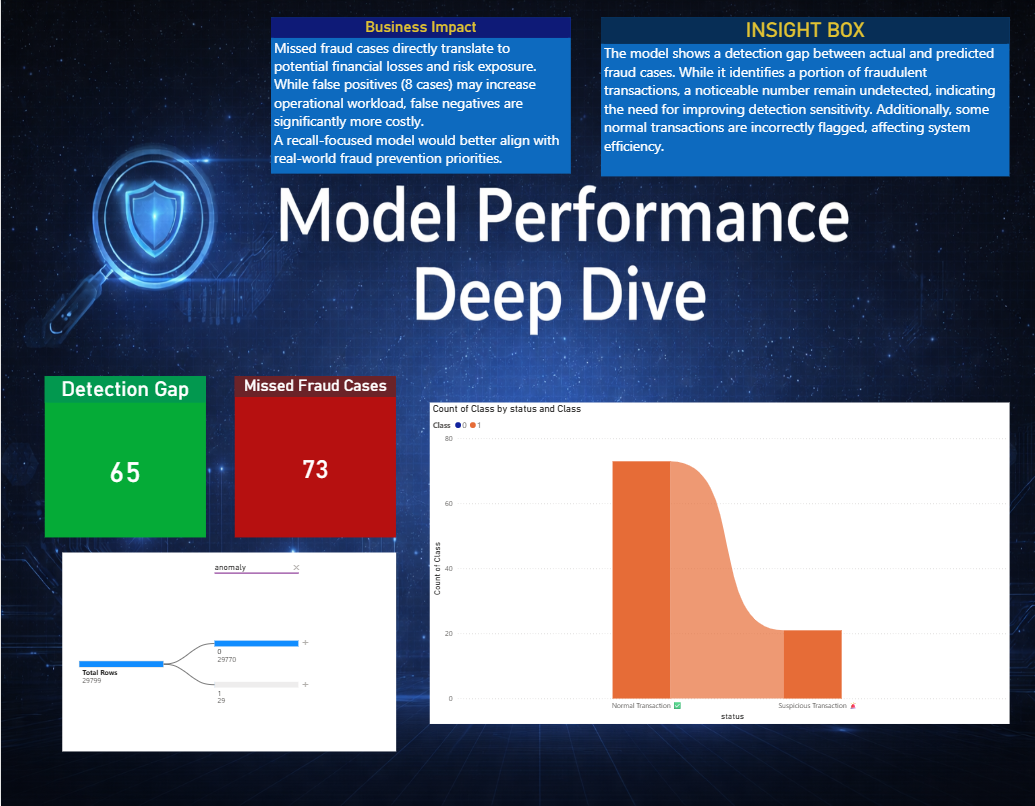

The page's visual inventory and layout, read from the dashboard file:
{"tool":"powerbi","page":{"name":"Model Performance Analysis","canvas":[1800,1400],"ordinal":1},"visuals":[{"type":"card","title":"Detection Gap","fields":{"Values":["anomaly_results_final.Fraud Gap"]},"box":[76,653.5,280.1,280.1],"z":0},{"type":"card","title":"Missed Fraud Cases","fields":{"Values":["anomaly_results_final.FN"]},"box":[406,653.5,280.1,280.1],"z":1},{"type":"textbox","title":"INSIGHT BOX","box":[1042.2,30.4,710,275.7],"z":3},{"type":"ribbonChart","fields":{"Category":["anomaly_results_final.status"],"Series":["anomaly_results_final.Class"],"Y":["anomaly_results_final.Count of Class"]},"box":[744.7,699.1,1007.4,558],"z":4},{"type":"decompositionTreeVisual","fields":{"ExplainBy":["anomaly_results_final.anomaly","anomaly_results_final.status","anomaly_results_final.Class"],"Analyze":["anomaly_results_final.Total Rows"]},"box":[106.4,959.7,579.7,345.2],"z":5},{"type":"textbox","title":"Business Impact","box":[469,30.4,521.1,271.4],"z":6}]}

Visuals, with their boxes in screenshot pixels (x1, y1, x2, y2), scaled from the page's 1800x1400 canvas onto the 1035x806 screenshot:
"Detection Gap" card: box=[44, 376, 205, 537]
"Missed Fraud Cases" card: box=[233, 376, 395, 537]
"INSIGHT BOX" textbox: box=[599, 18, 1008, 176]
ribbonChart - anomaly_results_final.status x anomaly_results_final.Class: box=[428, 402, 1007, 724]
decompositionTreeVisual - anomaly_results_final.anomaly x anomaly_results_final.status: box=[61, 553, 395, 751]
"Business Impact" textbox: box=[270, 18, 569, 174]
